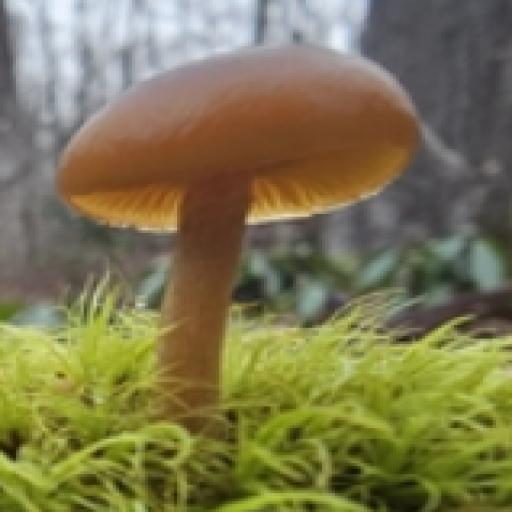Funeral Bell: (53, 37, 424, 420)
